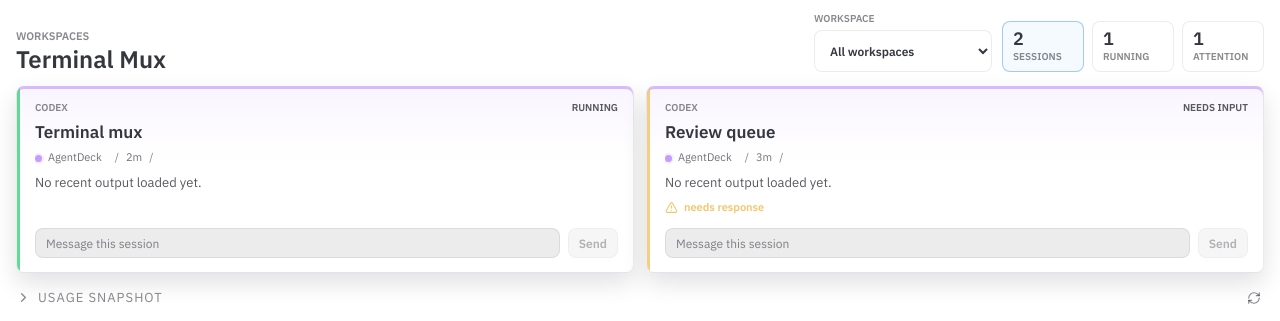
Scenario: Home › filters session tiles from the dashboard counters
Expected: the text "Terminal mux" is shown, [35,121,142,143]
Expected: the text "Review queue" is shown, [665,121,776,143]
Click the button "1 attention" at (1223, 46), box [1182,21,1264,72]
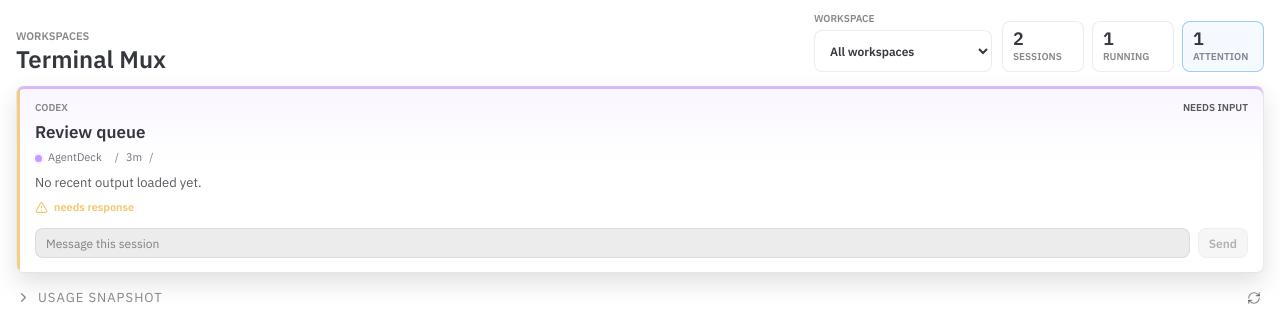
Expected: the text "Review queue" is shown, [35,121,146,143]
Click the button "2 sessions" at (1043, 46), box [1002,21,1084,72]
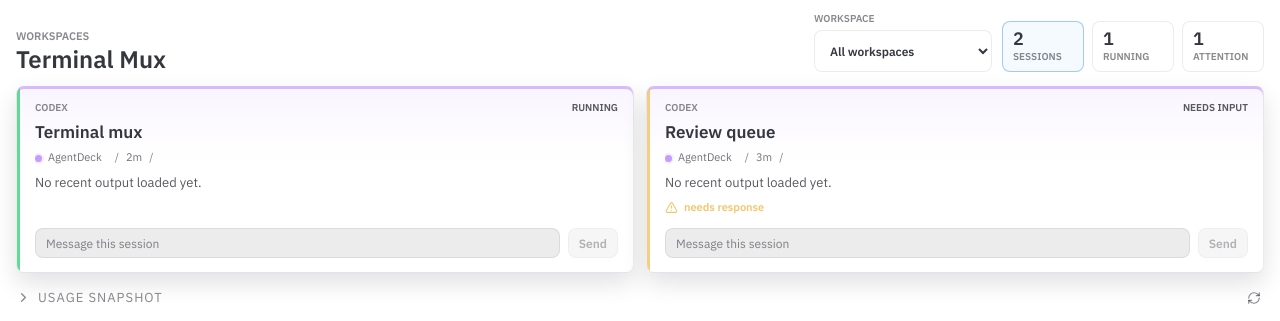
Expected: the text "Terminal mux" is shown, [35,121,142,143]
